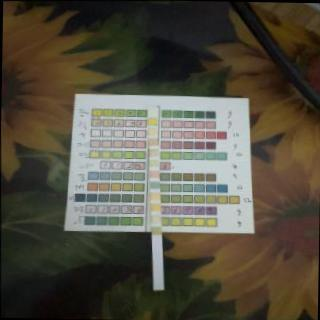mark: (150, 192, 160, 200), (150, 170, 159, 178), (149, 160, 158, 168), (148, 139, 157, 147), (149, 148, 157, 156), (149, 128, 157, 136), (148, 118, 156, 126), (151, 181, 160, 188), (153, 227, 161, 234), (152, 204, 160, 211), (153, 216, 160, 223), (148, 110, 156, 116)
